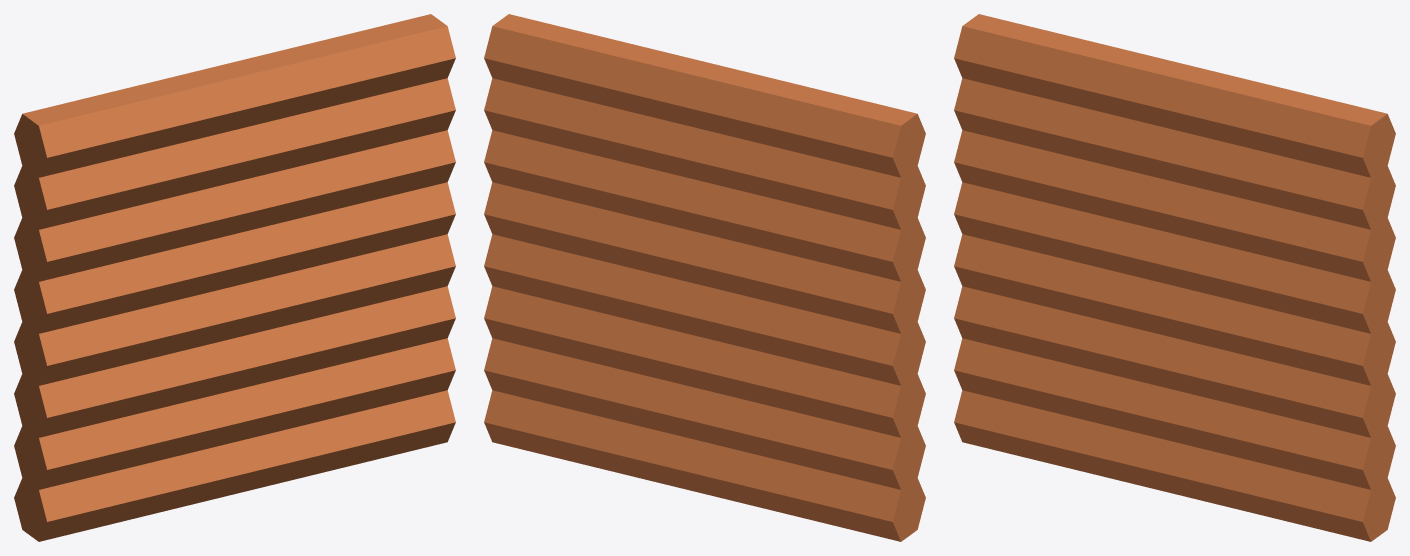
Rendered from cabinWall.fbx.
3 renders of one model, left to right at view 1: azimuth 30°, elevation 25°; view 2: azimuth 150°, elevation 25°; view 3: azimuth 330°, elevation 25°, orthographic.
Parts seen in each view (by area): view 1: cabinWall; view 2: cabinWall; view 3: cabinWall.
Boxes of the visible parts, <box> form: cabinWall: <box>14,14,455,541</box>; cabinWall: <box>484,14,925,541</box>; cabinWall: <box>954,14,1395,541</box>.
Bounding box in the file's own units: 10 × 9.73 × 1.4.
